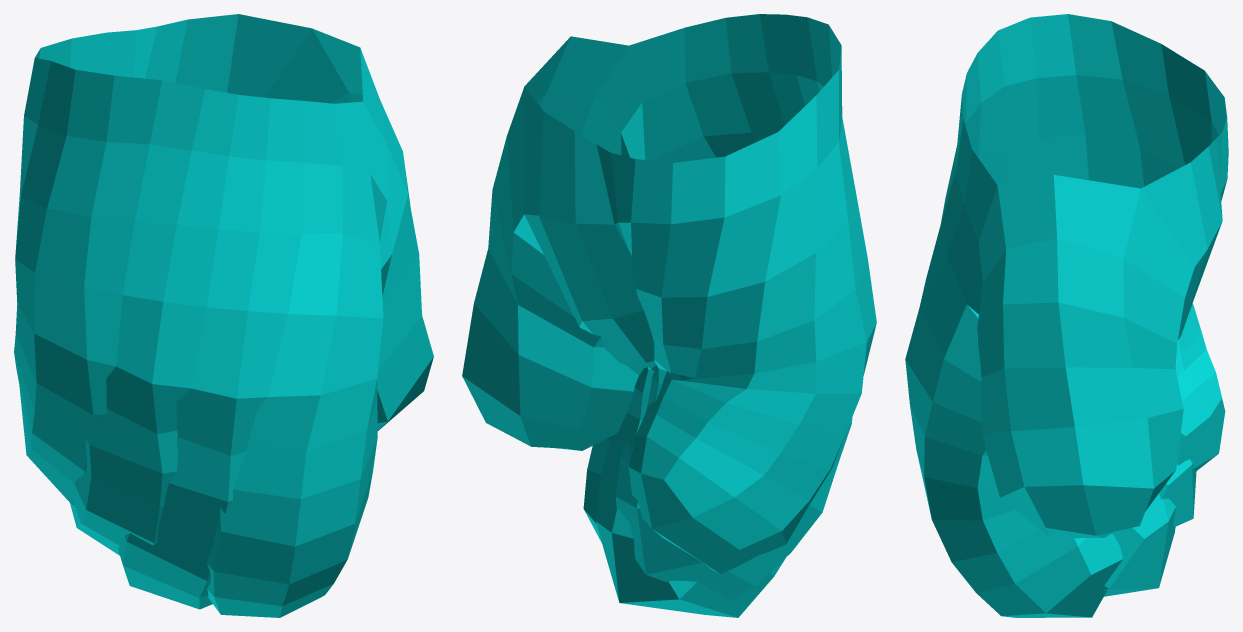
The model's file is lefthand.fbx.
3 views of the same model, side by side, from view 1: azimuth 30°, elevation 25°; view 2: azimuth 150°, elevation 25°; view 3: azimuth 270°, elevation 25° (orthographic). The views are drawn at different scales.
Parts seen in each view (by area): view 1: group1______1; view 2: group1______1; view 3: group1______1.
Boxes of the visible parts, box(x1,y1,x2,y2) form: group1______1: box(14, 14, 433, 617); group1______1: box(462, 14, 876, 617); group1______1: box(905, 14, 1228, 617).
Size of the model in its own units: 0.239 by 0.3401 by 0.1867.
